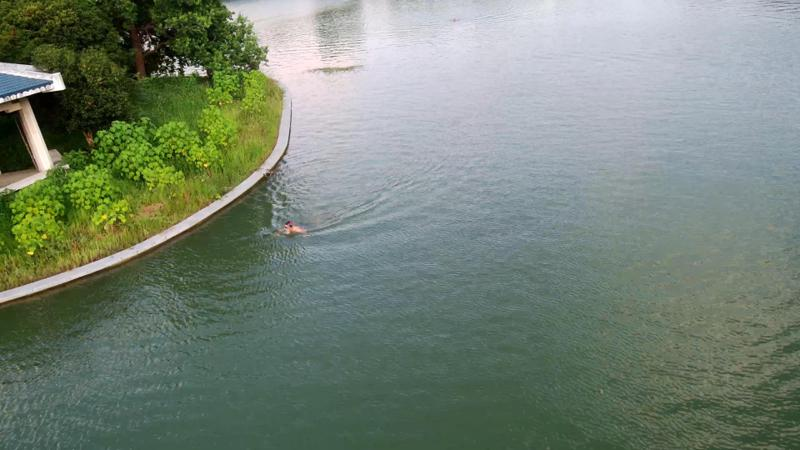swimmers: (273, 220, 307, 238)
